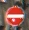No entry: (6, 6, 24, 25)
